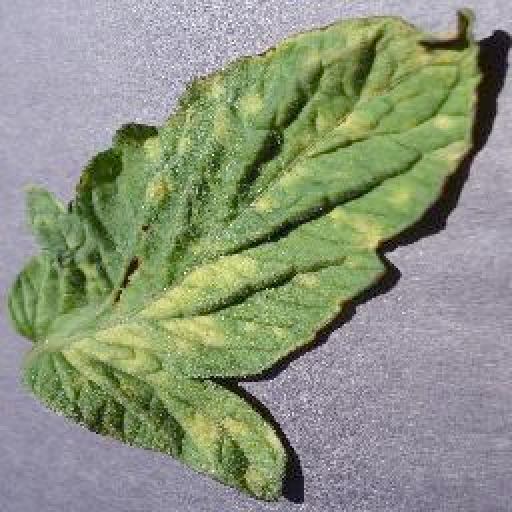disease_tomato: (14, 10, 484, 504)
